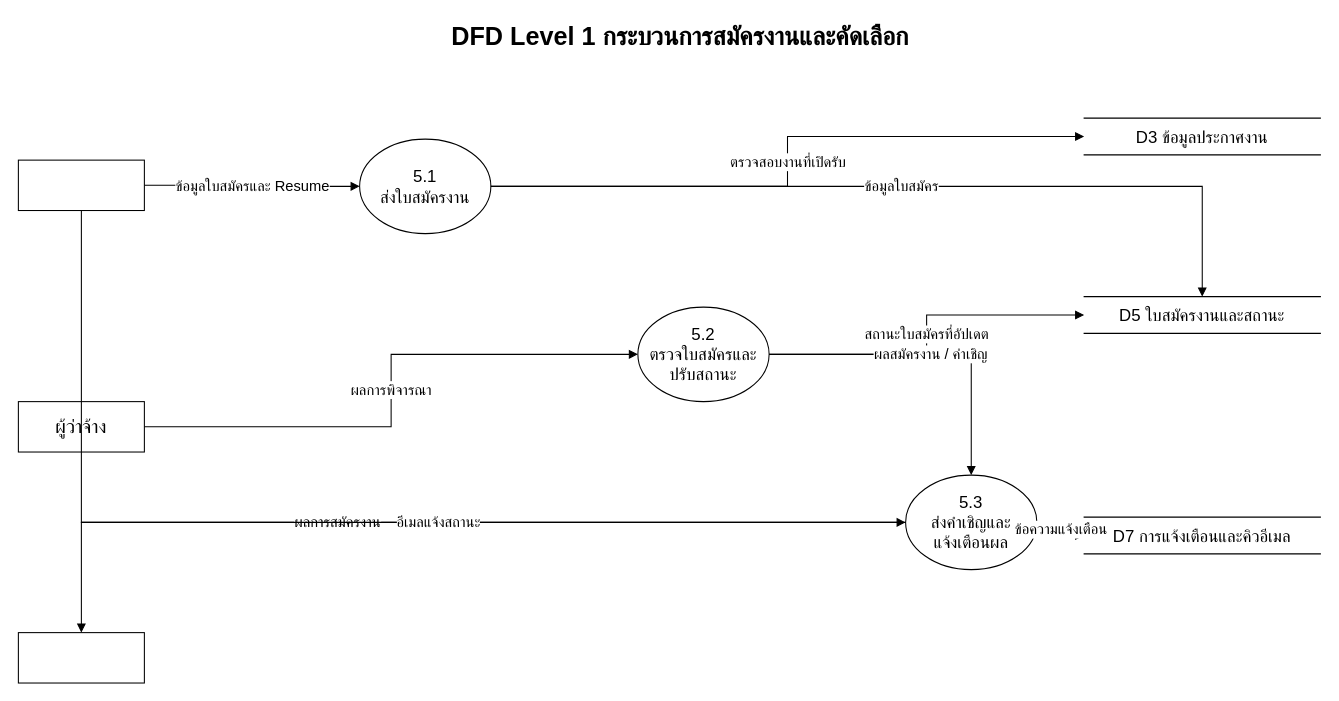
Image size: 1339x701. Some labels were removed from this diagram. Each missing label, with the centre of its shape:
ผู้หางาน: point 80,185
ระบบอีเมล: point 80,657
